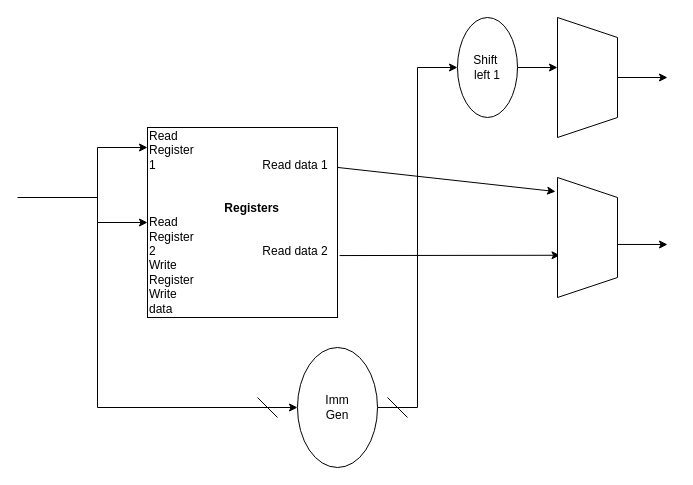
This 693x485 diagram has some shape labels left out. The shapes that lost their labels are listed below. From the top down, each one's centre as x and y in pixels, then its label:
At pixel 587 77: "Add Sum".
At pixel 587 237: "ALU".
